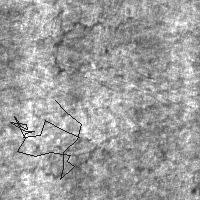crazing: (48, 11, 135, 77), (10, 100, 81, 179), (23, 133, 104, 180)
